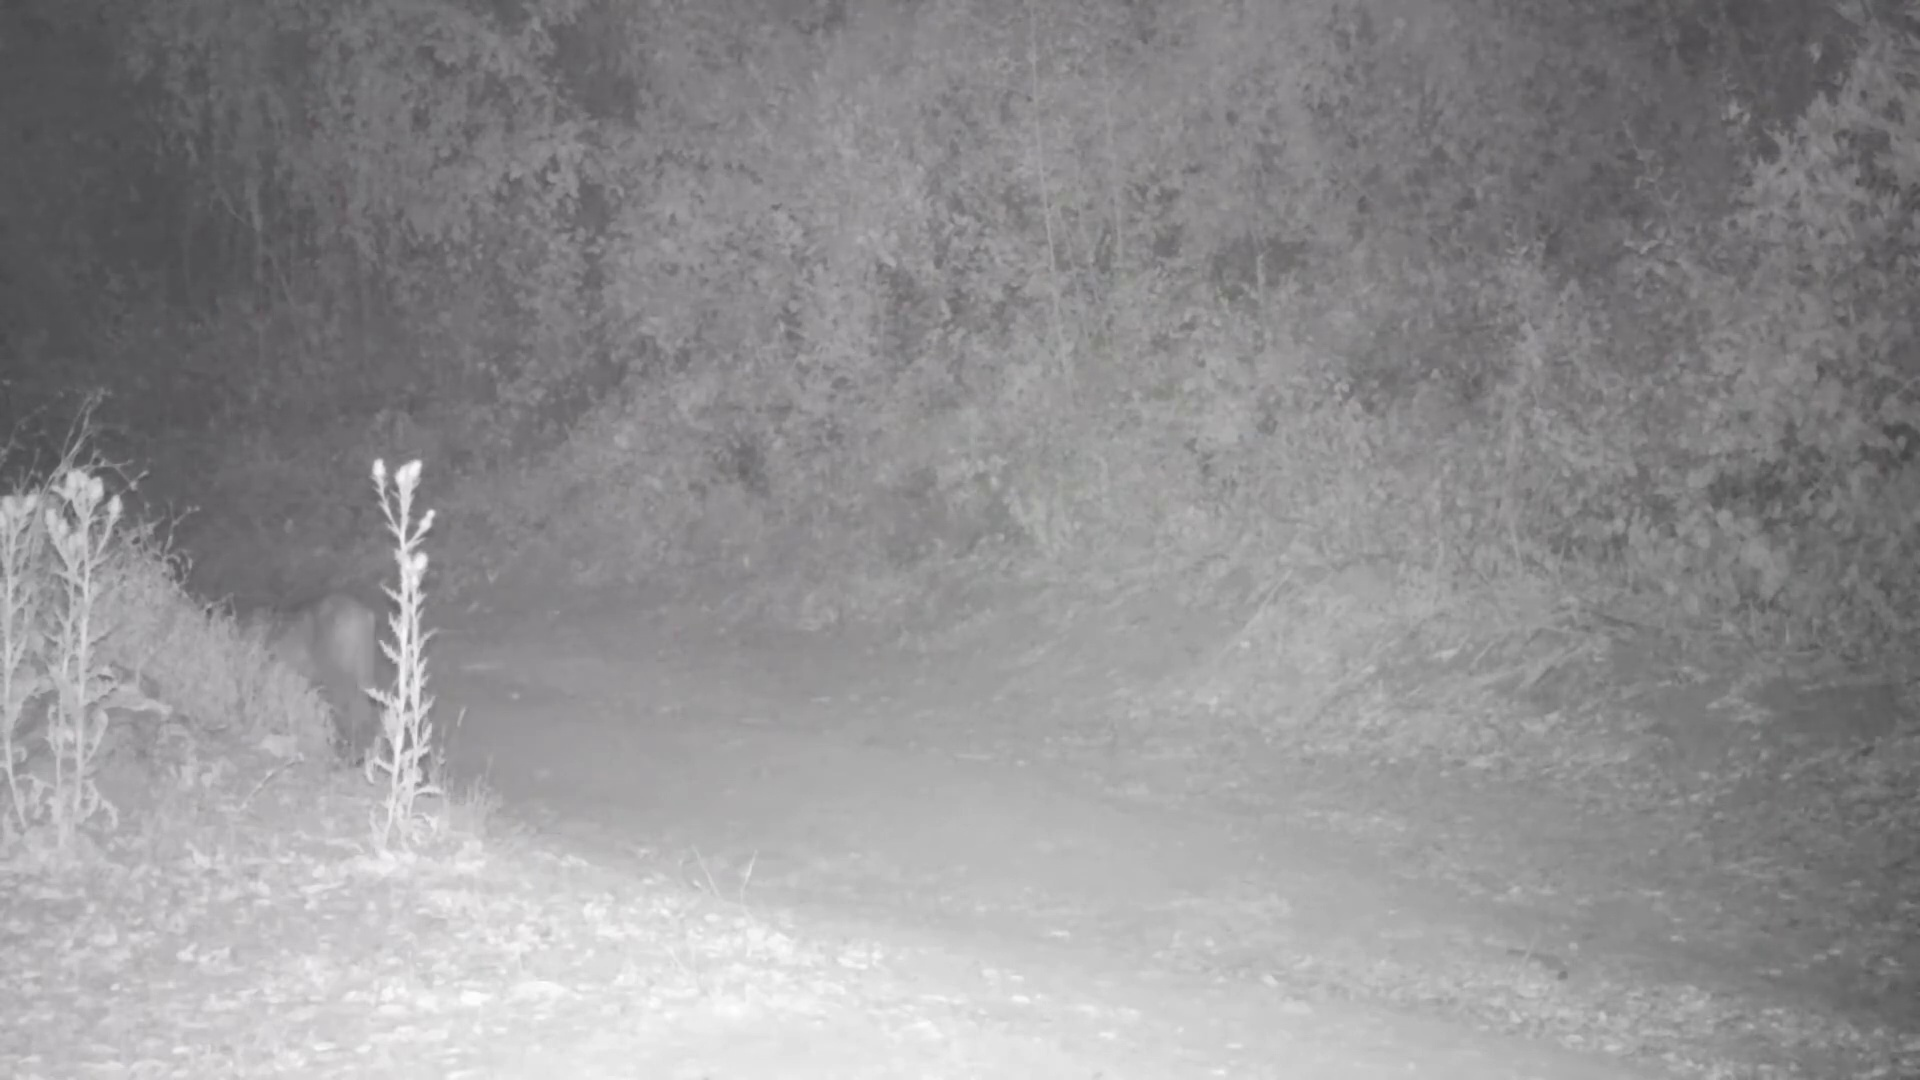Lion: (233, 595, 381, 757)
